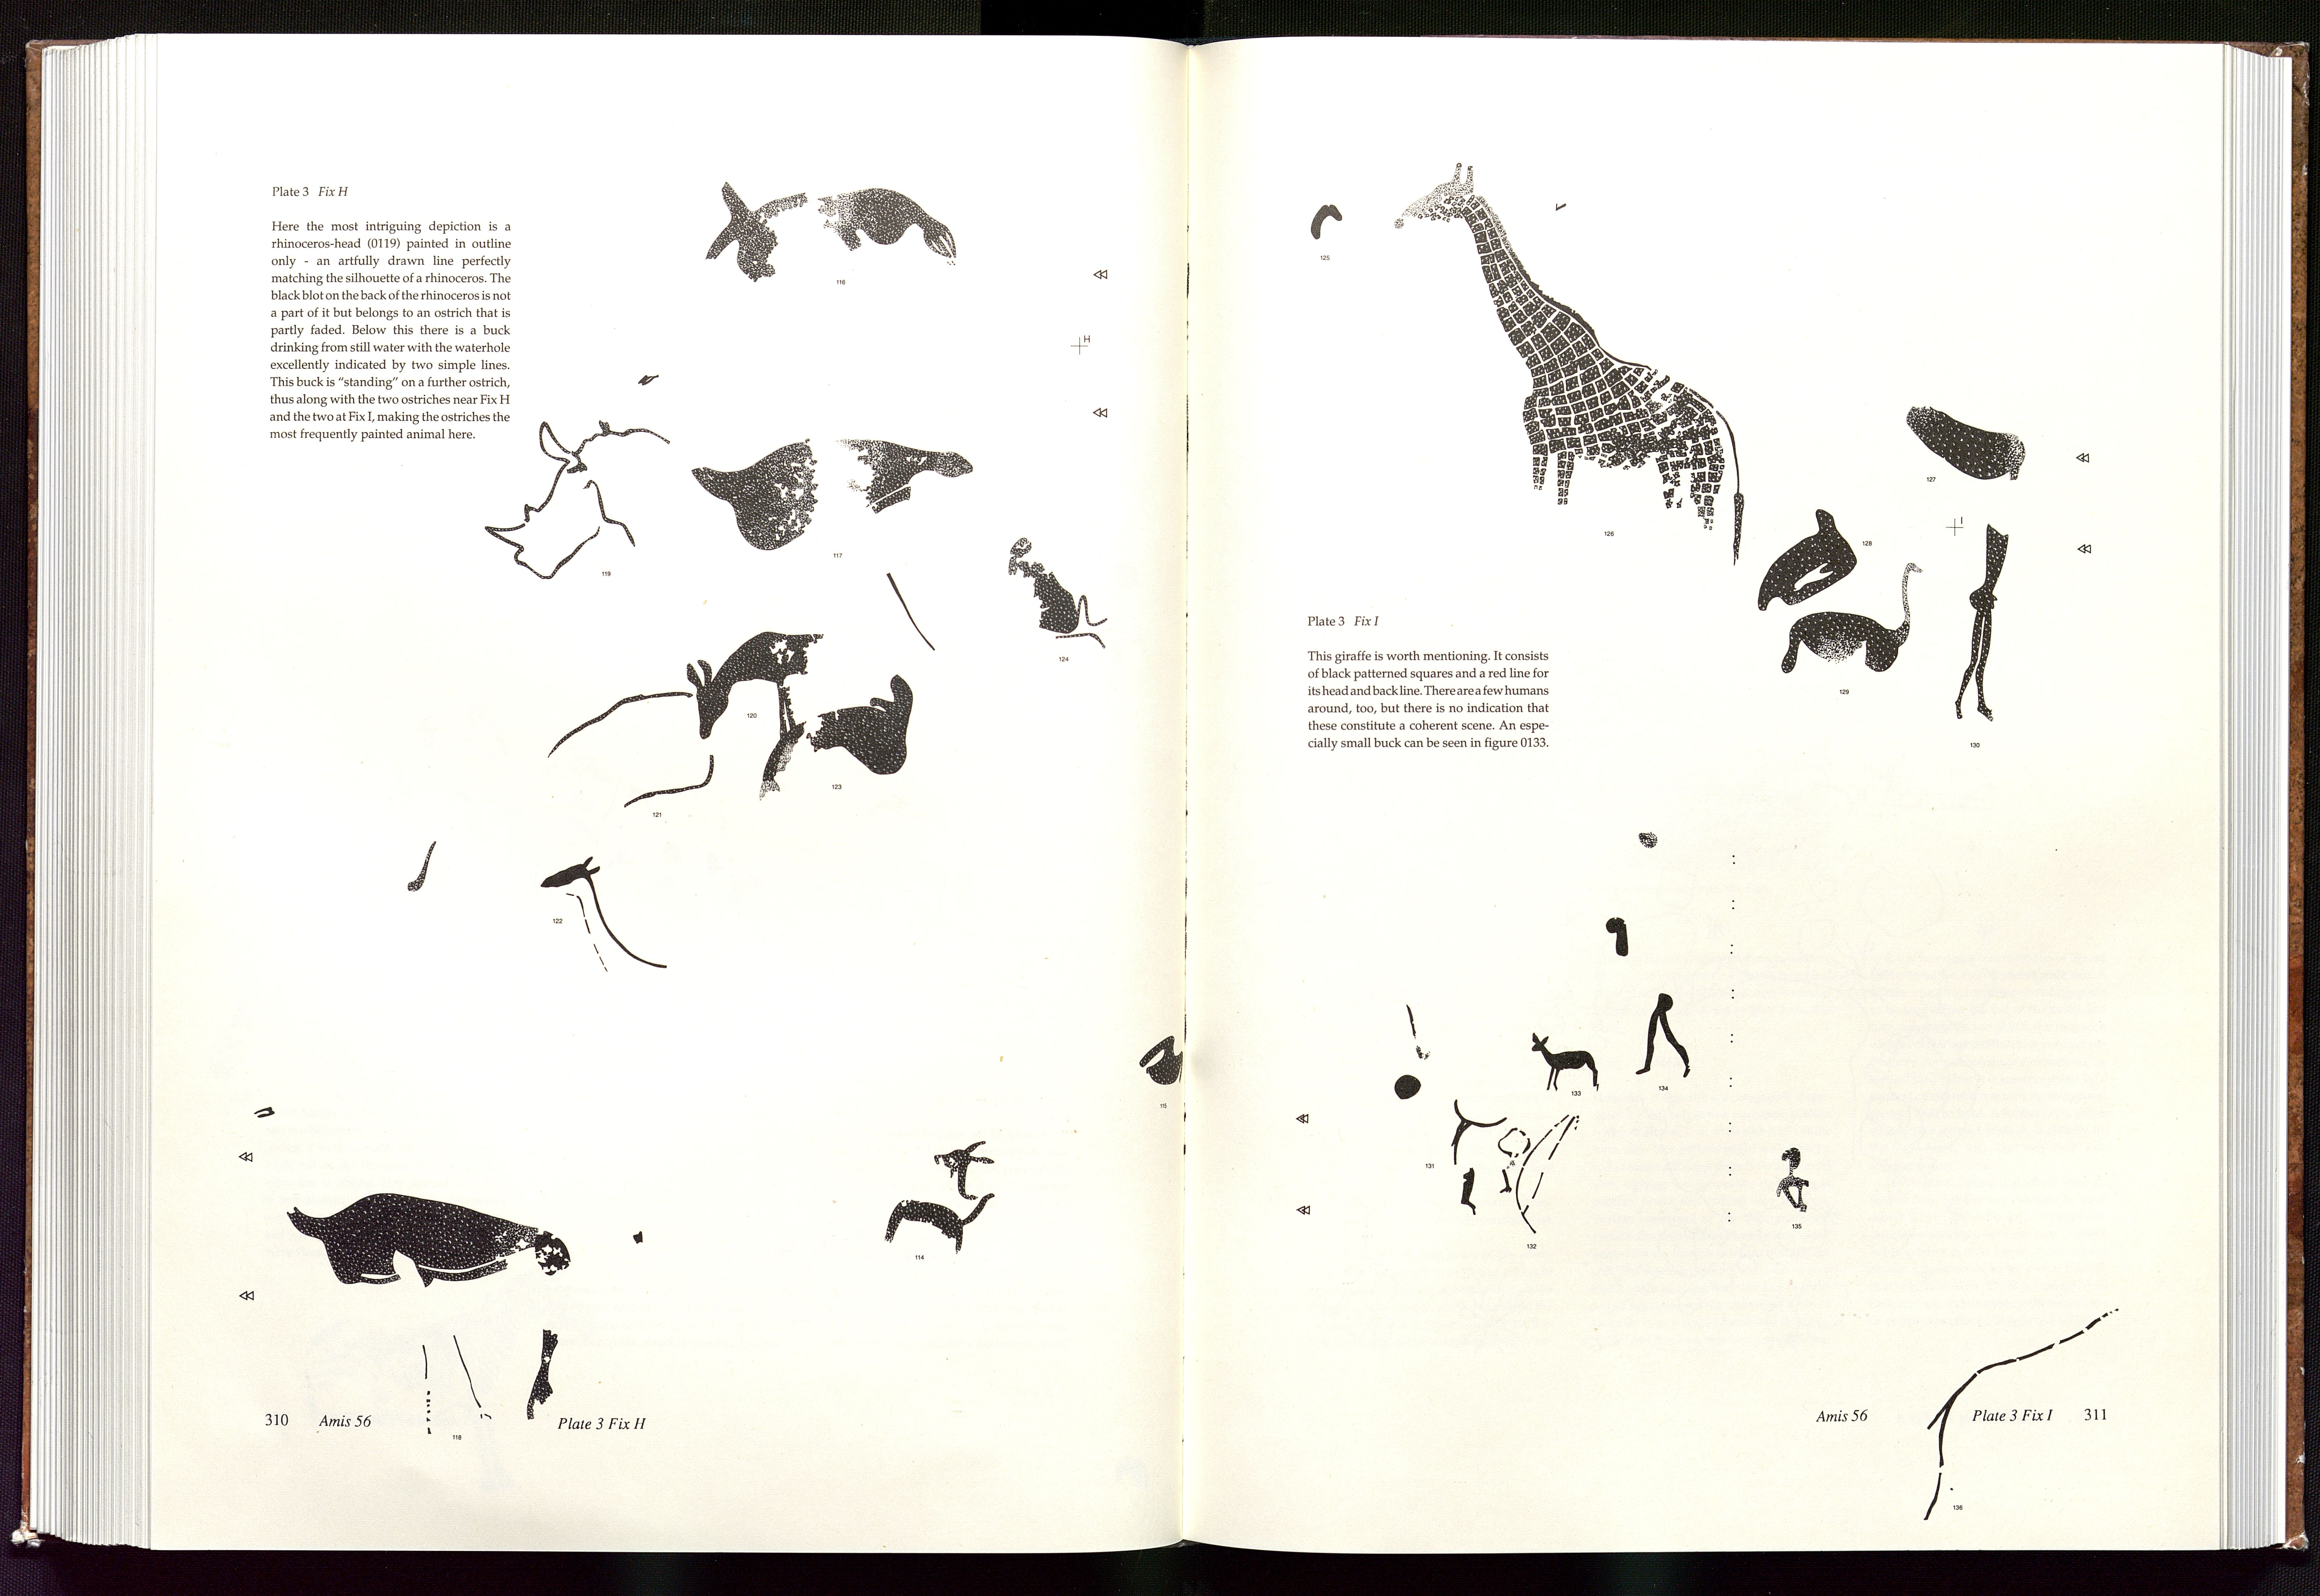animal: (1387, 160, 1751, 572), (480, 407, 688, 584), (675, 603, 832, 775), (532, 848, 682, 986), (1779, 560, 1933, 678), (1524, 1019, 1612, 1098)
human: (1953, 525, 2011, 725)
